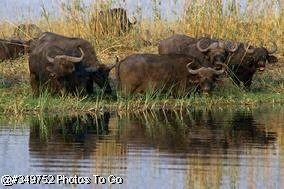buffalo: (27, 29, 116, 95), (114, 50, 225, 100), (158, 31, 239, 71), (27, 41, 84, 97), (223, 40, 276, 93)
